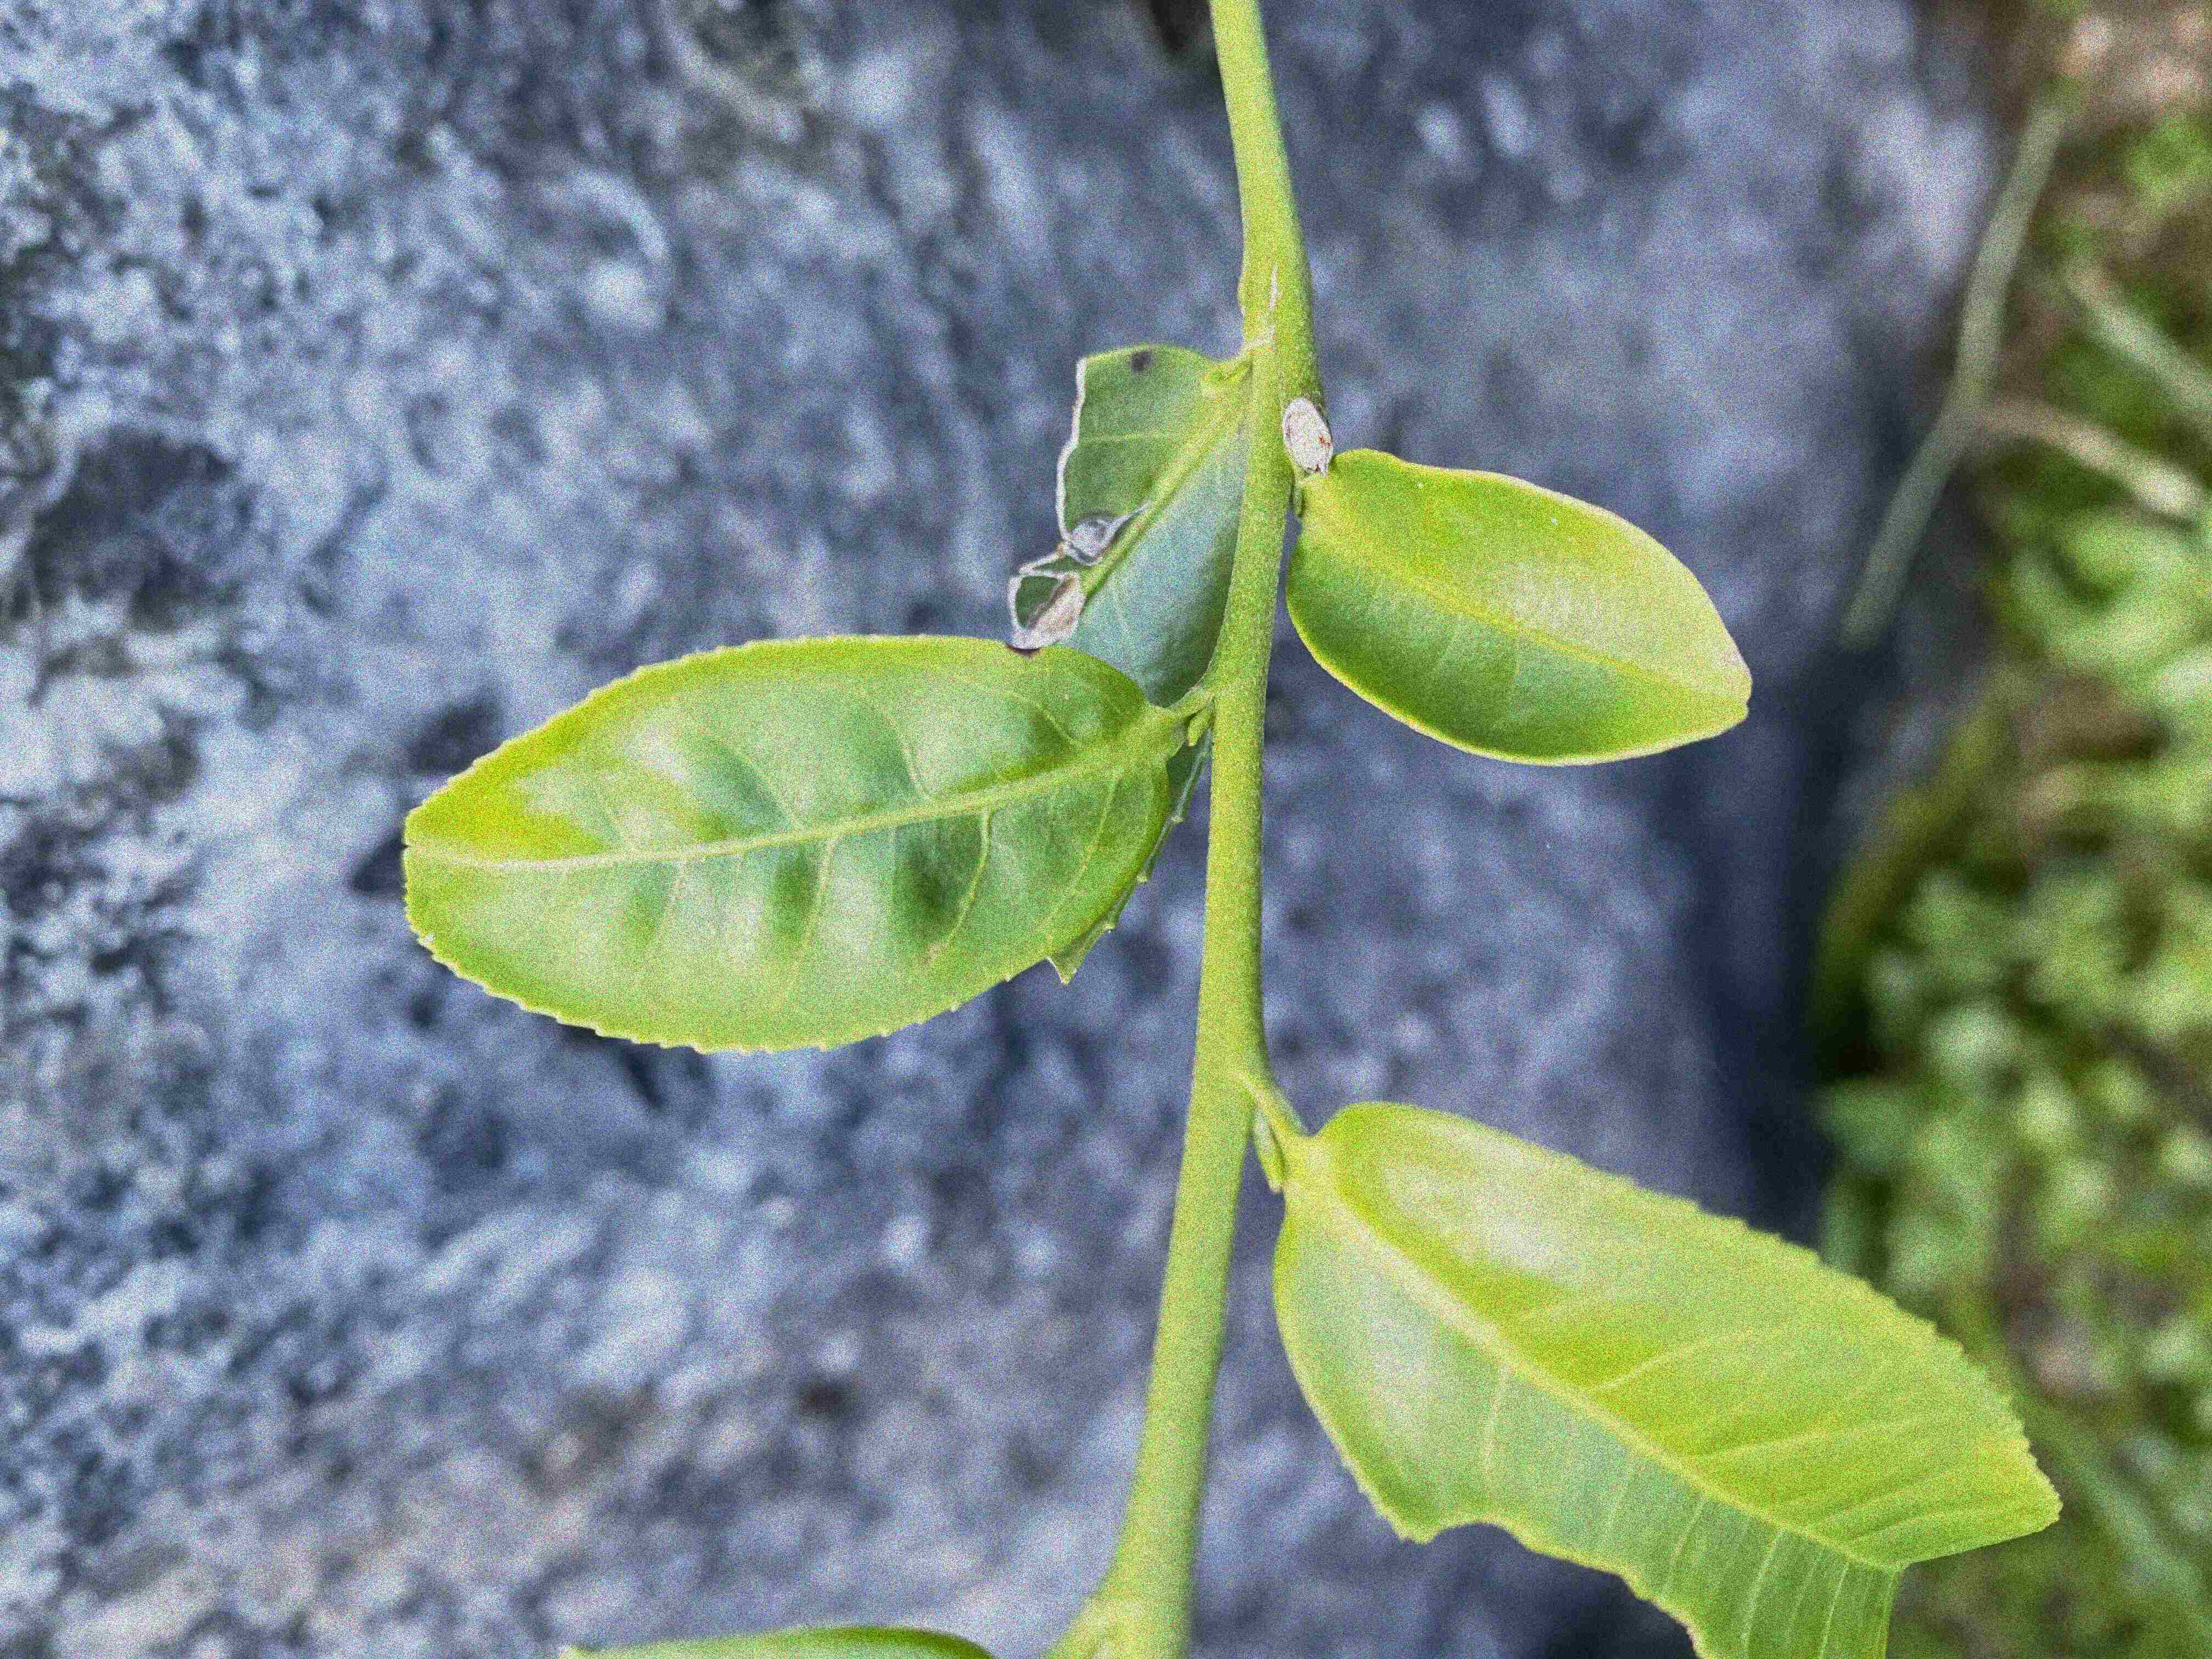chihuo_high: (1261, 1098, 2067, 1656)
healthy: (397, 627, 1172, 1056), (1292, 448, 1752, 774)
